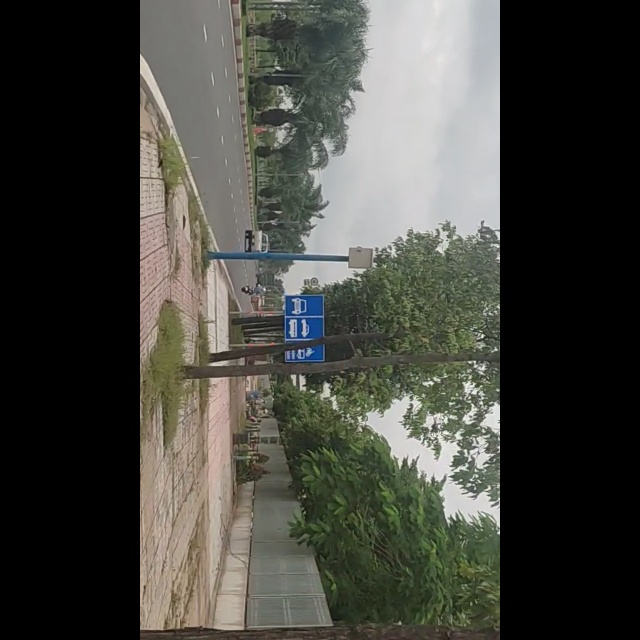bien_chi_dan: (252, 291, 332, 363)
